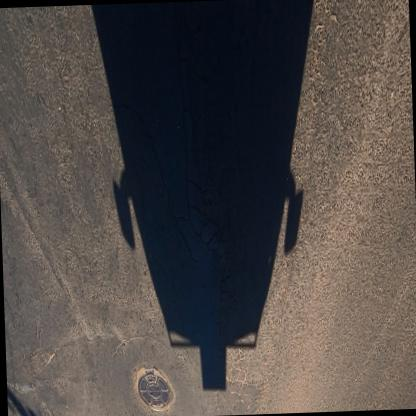manholes: (132, 362, 178, 416)
